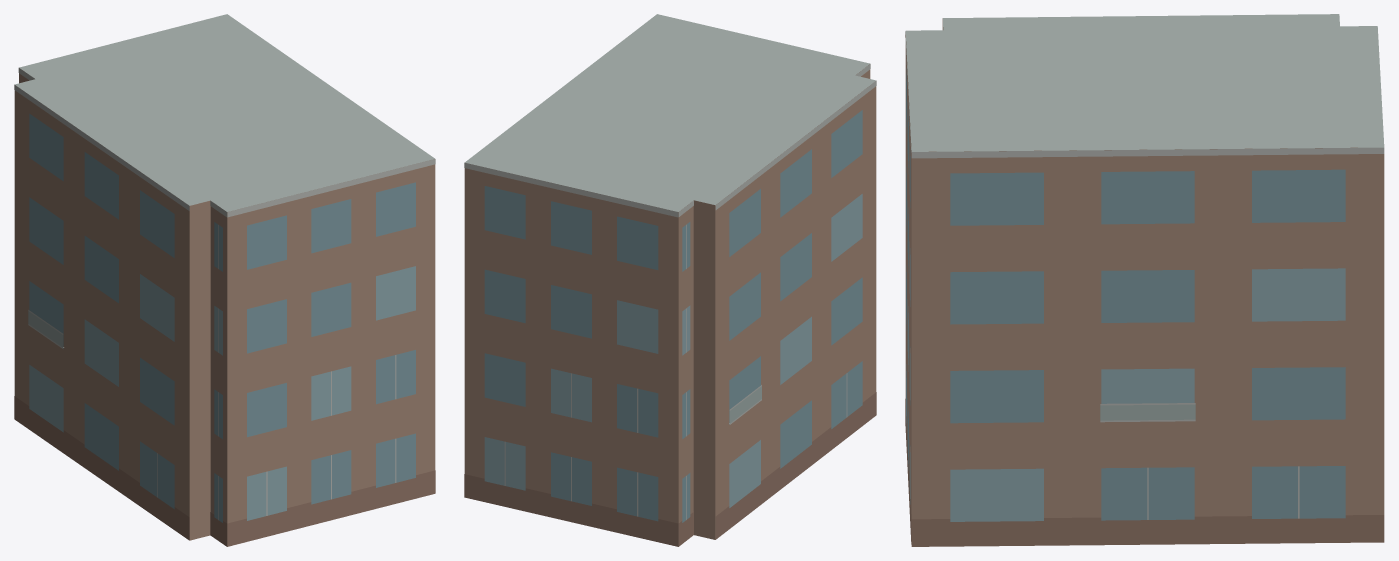
The model's file is survey-upis-32662006.glb.
3 renders of one model, left to right at view 1: azimuth 30°, elevation 25°; view 2: azimuth 150°, elevation 25°; view 3: azimuth 270°, elevation 25°, orthographic. The views are drawn at different scales.
Parts seen in each view (by area): view 1: survey-upis-32662006.tmp; view 2: survey-upis-32662006.tmp; view 3: survey-upis-32662006.tmp.
Boxes of the visible parts, <box> form: survey-upis-32662006.tmp: <box>14,14,435,546</box>; survey-upis-32662006.tmp: <box>464,14,876,546</box>; survey-upis-32662006.tmp: <box>905,14,1384,546</box>.
Bounding box in the file's own units: 11.21 × 14.95 × 16.44.
